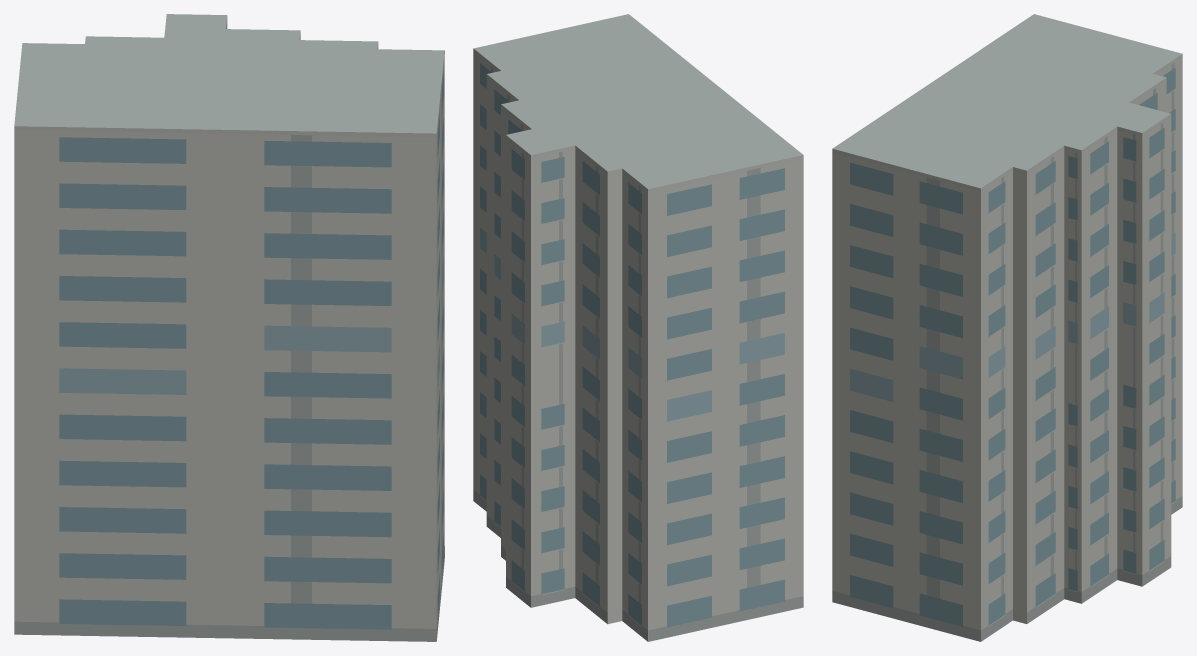
File: residential-5e5179bf-1f94-4a5b-97da-9b1dfbcb0244.glb
The picture shows the model from 3 angles, left to right: view 1: azimuth 30°, elevation 25°; view 2: azimuth 150°, elevation 25°; view 3: azimuth 270°, elevation 25°; orthographic projection. The views are drawn at different scales.
Parts seen in each view (by area): view 1: residential-5e5179bf-1f94-4a5b-97da-9b1dfbcb0244.tmp; view 2: residential-5e5179bf-1f94-4a5b-97da-9b1dfbcb0244.tmp; view 3: residential-5e5179bf-1f94-4a5b-97da-9b1dfbcb0244.tmp.
Part boxes in pixels (x1,y1,x2,y2): residential-5e5179bf-1f94-4a5b-97da-9b1dfbcb0244.tmp: (14,14,444,641); residential-5e5179bf-1f94-4a5b-97da-9b1dfbcb0244.tmp: (473,14,803,641); residential-5e5179bf-1f94-4a5b-97da-9b1dfbcb0244.tmp: (832,14,1182,641).
Size of the model in its own units: 26.4 by 32 by 22.41.
